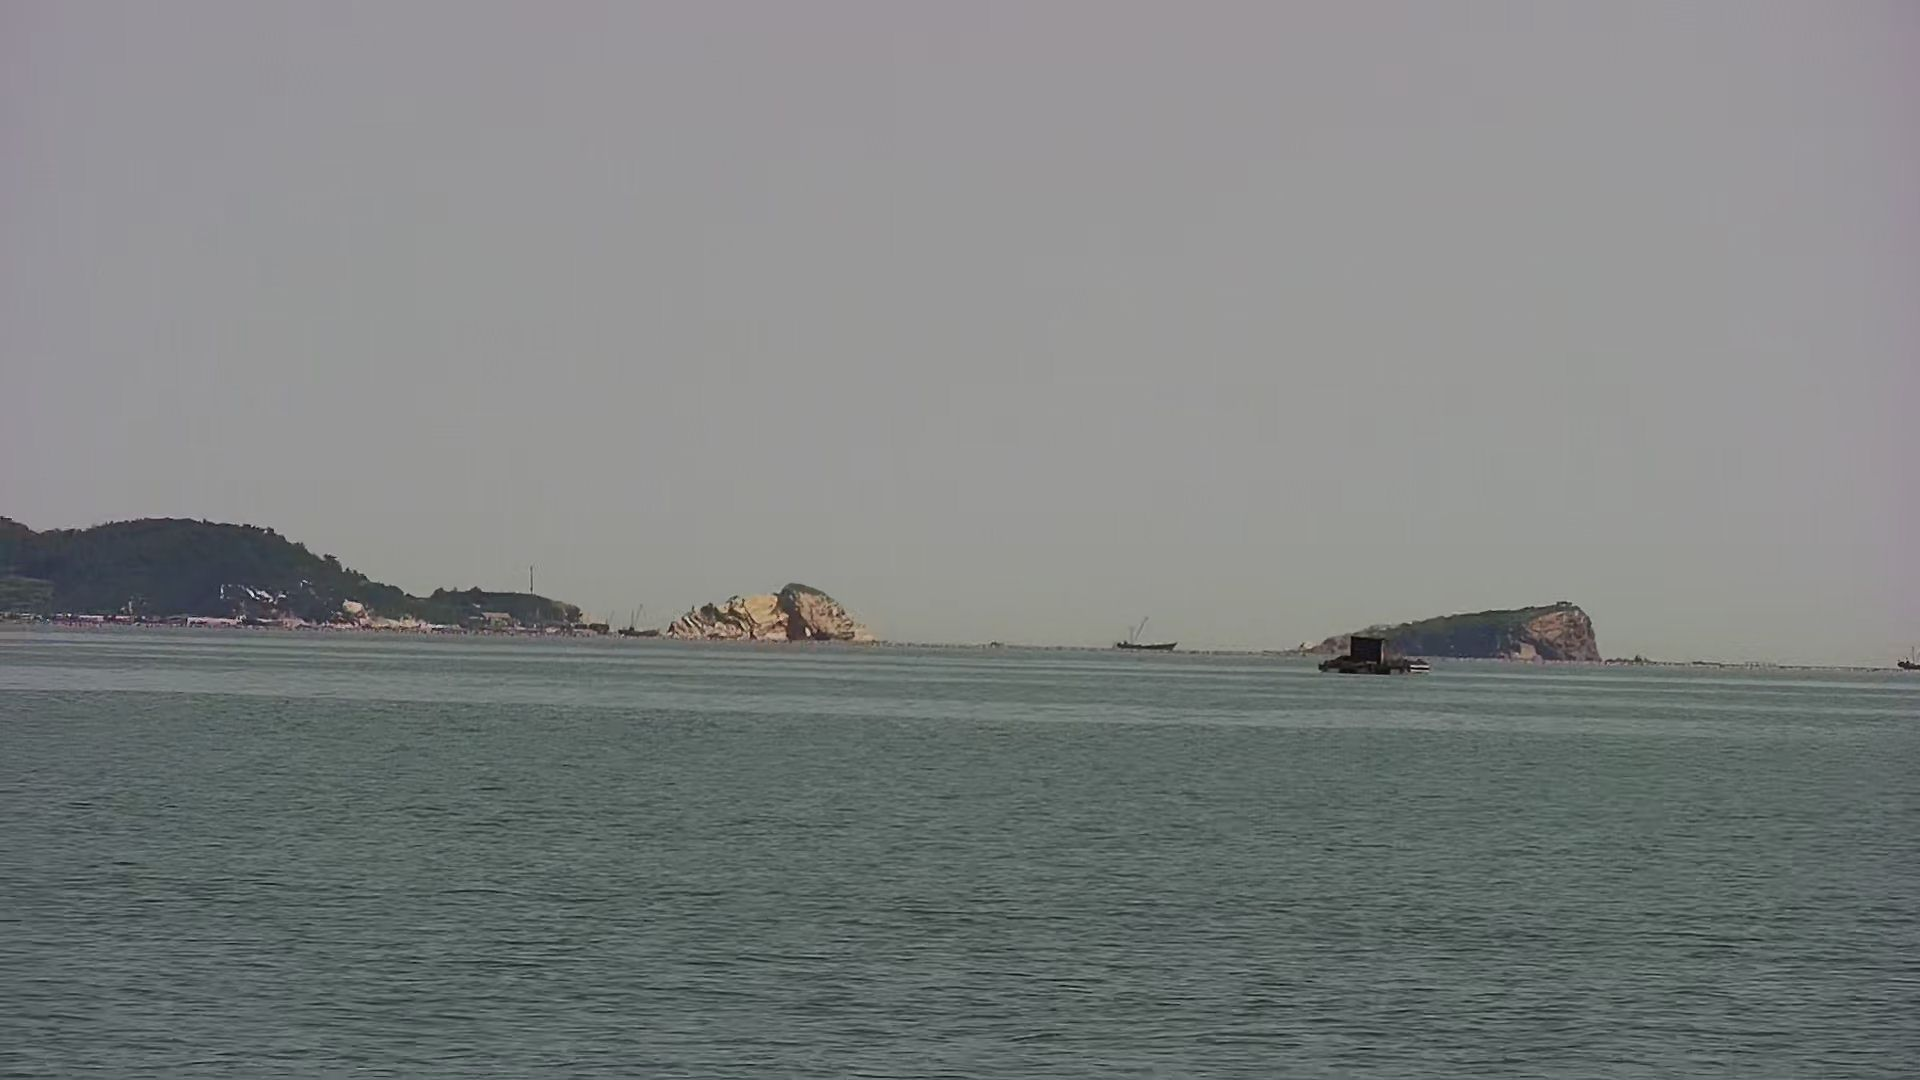boat: (1112, 615, 1180, 657)
platform: (1317, 634, 1436, 679)
rock: (1284, 597, 1609, 669), (658, 579, 860, 647)
